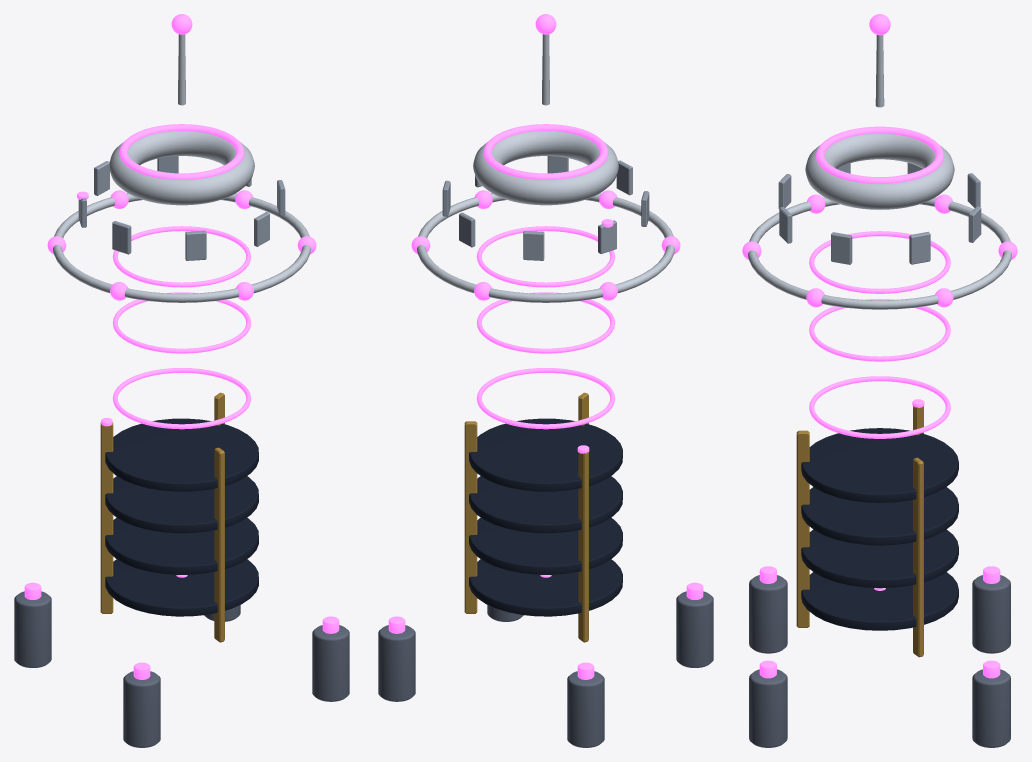
File: tower_arc_damage_s9.glb
3 renders of one model, left to right at view 1: azimuth 30°, elevation 25°; view 2: azimuth 150°, elevation 25°; view 3: azimuth 270°, elevation 25°, orthographic. The views are drawn at different scales.
Visible parts, largest first — view 1: arc_insulator_sleeve3, arc_toroid_b, arc_insulator_sleeve2, arc_insulator_sleeve1, arc_insulator_sleeve0, arc_electrode_ring, arc_shock_cap2, arc_shock_cap3, arc_shock_cap0, arc_toroid_b_glow, arc_ground_strap0, arc_ground_strap2 (+6 smaller); view 2: arc_insulator_sleeve3, arc_toroid_b, arc_insulator_sleeve2, arc_insulator_sleeve1, arc_insulator_sleeve0, arc_electrode_ring, arc_shock_cap1, arc_shock_cap0, arc_shock_cap3, arc_ground_strap1, arc_toroid_b_glow, arc_ground_strap0 (+5 smaller); view 3: arc_insulator_sleeve3, arc_toroid_b, arc_insulator_sleeve2, arc_insulator_sleeve1, arc_insulator_sleeve0, arc_electrode_ring, arc_shock_cap0, arc_shock_cap3, arc_shock_cap1, arc_shock_cap2, arc_ground_strap2, arc_toroid_b_glow (+7 smaller).
Part boxes in pixels (x1=…): arc_insulator_sleeve3: x1=105, y1=418, x2=258, y2=491; arc_toroid_b: x1=109, y1=131, x2=254, y2=205; arc_insulator_sleeve2: x1=105, y1=476, x2=258, y2=533; arc_insulator_sleeve1: x1=105, y1=517, x2=258, y2=574; arc_insulator_sleeve0: x1=105, y1=559, x2=258, y2=616; arc_electrode_ring: x1=53, y1=193, x2=310, y2=302; arc_shock_cap2: x1=312, y1=625, x2=349, y2=701; arc_shock_cap3: x1=123, y1=671, x2=160, y2=747; arc_shock_cap0: x1=14, y1=591, x2=51, y2=667; arc_toroid_b_glow: x1=119, y1=124, x2=244, y2=179; arc_ground_strap0: x1=100, y1=422, x2=113, y2=613; arc_ground_strap2: x1=214, y1=447, x2=224, y2=642; arc_insulator_sleeve3: x1=469, y1=418, x2=622, y2=491; arc_toroid_b: x1=473, y1=131, x2=618, y2=205; arc_insulator_sleeve2: x1=469, y1=476, x2=622, y2=533; arc_insulator_sleeve1: x1=469, y1=517, x2=622, y2=574; arc_insulator_sleeve0: x1=469, y1=559, x2=622, y2=616; arc_electrode_ring: x1=417, y1=193, x2=674, y2=302; arc_shock_cap1: x1=378, y1=625, x2=415, y2=701; arc_shock_cap0: x1=567, y1=671, x2=604, y2=747; arc_shock_cap3: x1=676, y1=591, x2=713, y2=667; arc_ground_strap1: x1=464, y1=421, x2=477, y2=613; arc_toroid_b_glow: x1=483, y1=124, x2=608, y2=179; arc_ground_strap0: x1=578, y1=452, x2=588, y2=642; arc_insulator_sleeve3: x1=801, y1=428, x2=958, y2=503; arc_toroid_b: x1=805, y1=133, x2=954, y2=209; arc_insulator_sleeve2: x1=801, y1=487, x2=958, y2=545; arc_insulator_sleeve1: x1=801, y1=529, x2=958, y2=588; arc_insulator_sleeve0: x1=801, y1=572, x2=958, y2=630; arc_electrode_ring: x1=748, y1=197, x2=1011, y2=309; arc_shock_cap0: x1=972, y1=575, x2=1010, y2=653; arc_shock_cap3: x1=749, y1=575, x2=787, y2=653; arc_shock_cap1: x1=972, y1=669, x2=1010, y2=747; arc_shock_cap2: x1=749, y1=669, x2=787, y2=747; arc_ground_strap2: x1=796, y1=430, x2=809, y2=627; arc_toroid_b_glow: x1=816, y1=126, x2=943, y2=183.
Size of the model in its own units: 1.24 by 3.51 by 1.29.
